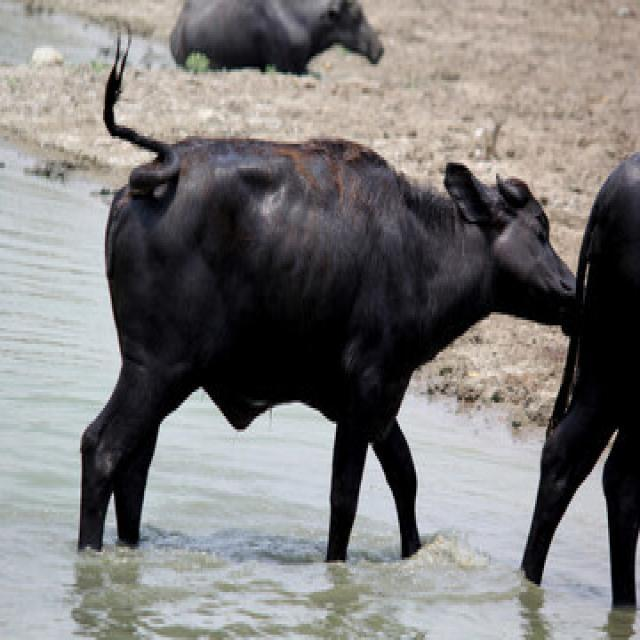Buffalo: (77, 52, 581, 556)
